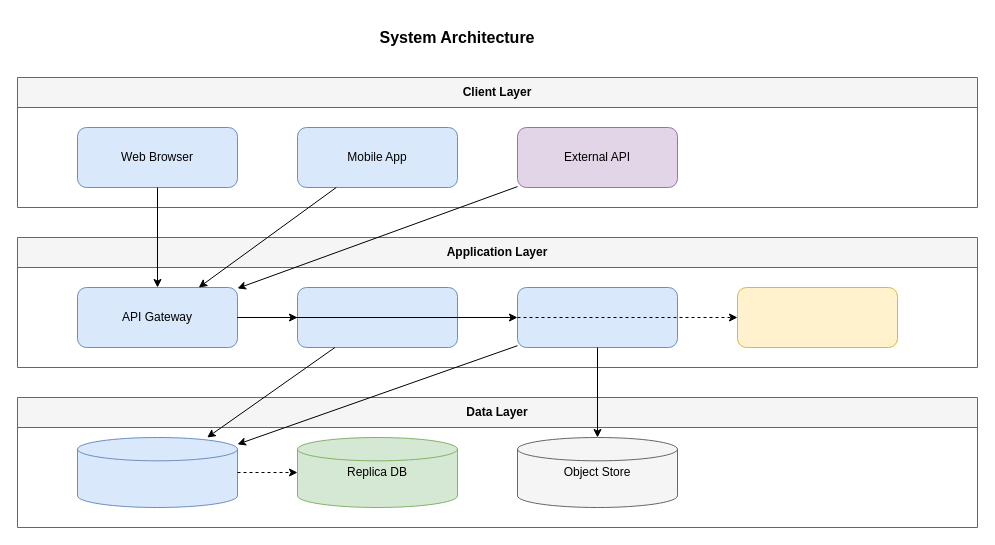
Some shapes in this 995 by 545 pixel diagram are drawn without their labels. Here are the shapes that lost their labels. From the top down, the centre of each, then its label:
At pixel 377 317: "Service A".
At pixel 597 317: "Service B".
At pixel 817 317: "Cache".
At pixel 157 472: "Primary DB".
